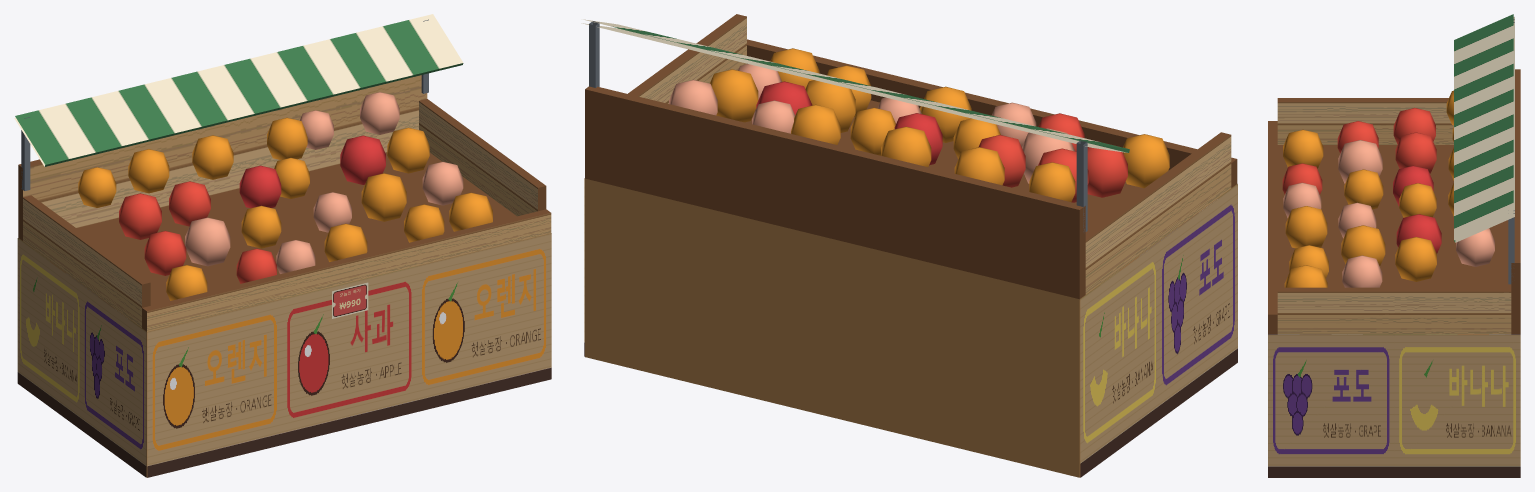
Rendered from Prop_FruitStand.fbx.
The picture shows the model from 3 angles, left to right: view 1: azimuth 30°, elevation 25°; view 2: azimuth 150°, elevation 25°; view 3: azimuth 270°, elevation 25°; orthographic projection. The views are drawn at different scales.
Parts seen in each view (by area): view 1: Prop_FruitStand; view 2: Prop_FruitStand; view 3: Prop_FruitStand.
Part boxes in pixels (x1,y1,x2,y2): Prop_FruitStand: (14, 14, 551, 477); Prop_FruitStand: (581, 14, 1237, 477); Prop_FruitStand: (1268, 14, 1520, 477).
Bounding box in the file's own units: 3 × 1.86 × 1.61.
1 material, 1 textured.
